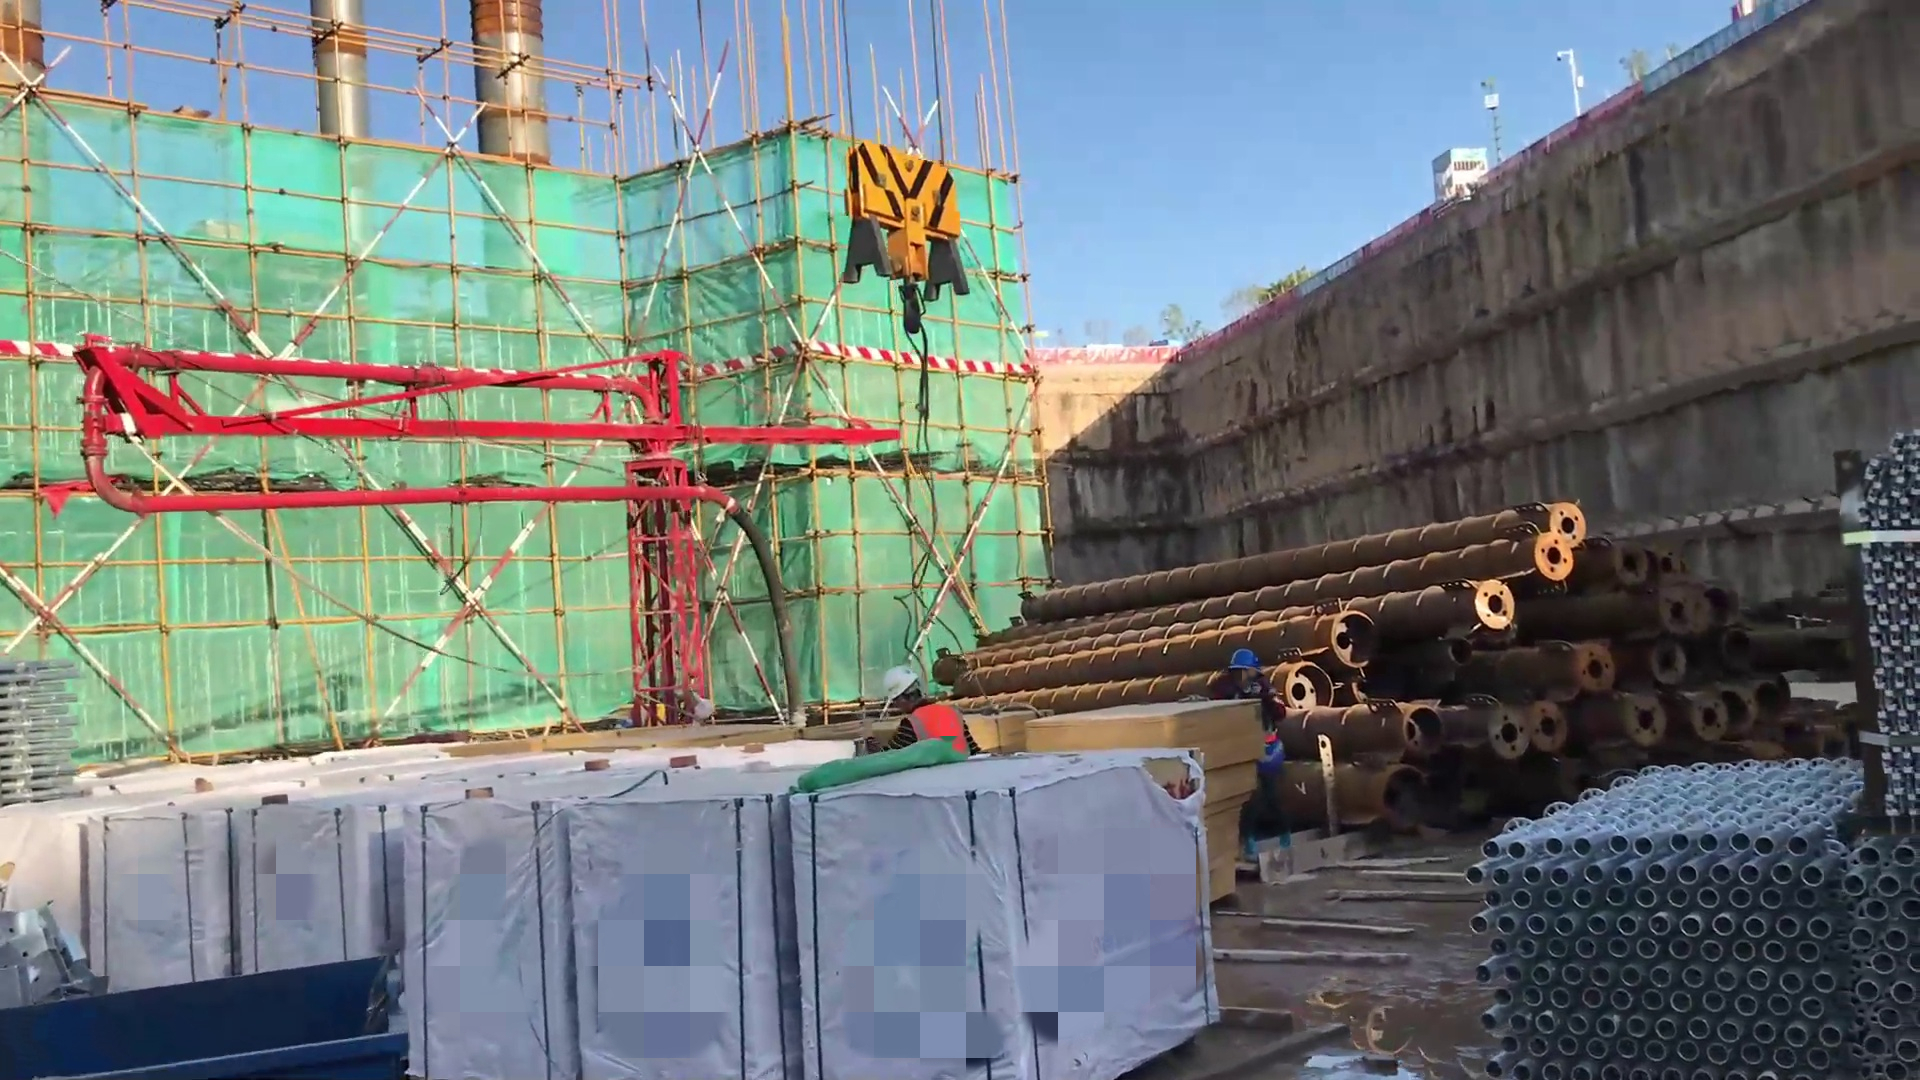board: (983, 688, 1272, 926)
helmet: (883, 663, 930, 713), (1220, 648, 1266, 683)
hook: (830, 142, 998, 342)
person: (1197, 650, 1317, 879), (851, 653, 989, 800)
scaffold: (1479, 737, 1920, 1070), (1834, 410, 1920, 810), (1, 642, 126, 801)
slogan: (1634, 1, 1817, 106), (1293, 242, 1377, 309)
vest: (902, 705, 976, 765)
wood: (953, 705, 1054, 753)
